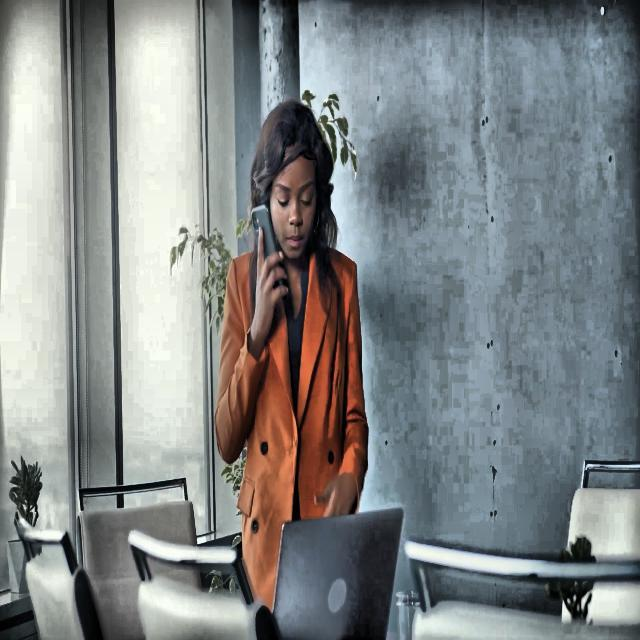Phone: (251, 203, 277, 260)
